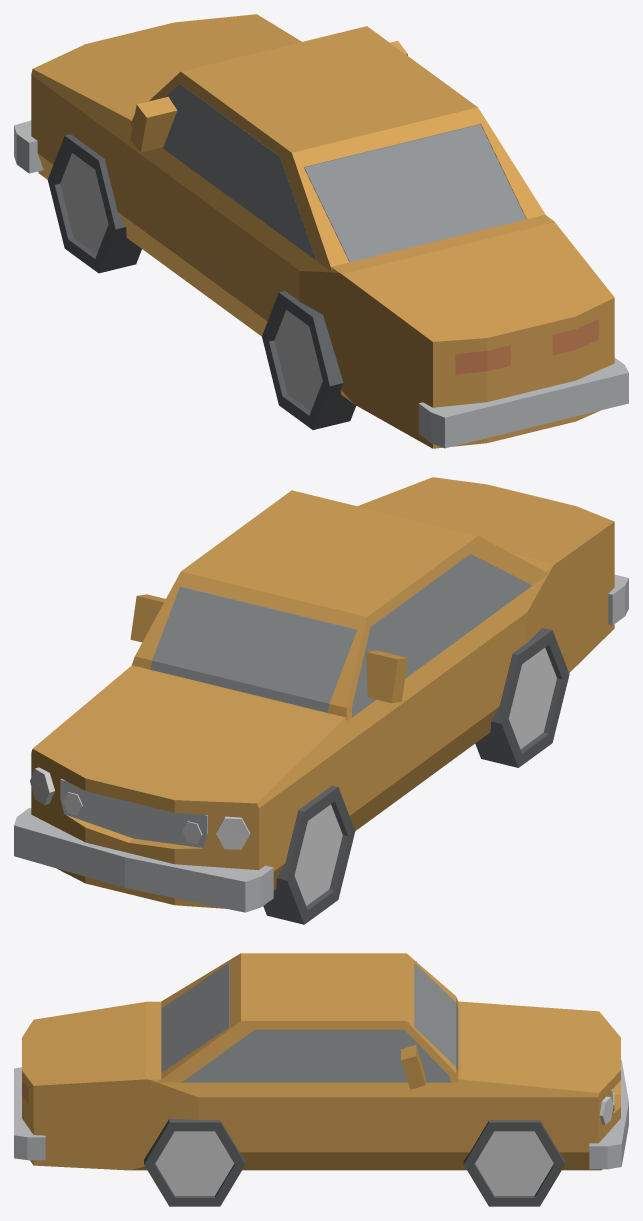
Rendered from car2.glb.
The picture shows the model from 3 angles, top to bottom: view 1: azimuth 30°, elevation 25°; view 2: azimuth 150°, elevation 25°; view 3: azimuth 270°, elevation 25°; orthographic projection. The views are drawn at different scales.
Parts seen in each view (by area): view 1: Mesh_Mesh_head_geo.001_lambert2SG.001; view 2: Mesh_Mesh_head_geo.001_lambert2SG.001; view 3: Mesh_Mesh_head_geo.001_lambert2SG.001.
Boxes of the visible parts, left/top/right/bottom form: Mesh_Mesh_head_geo.001_lambert2SG.001: left=14, top=14, right=628, bottom=448; Mesh_Mesh_head_geo.001_lambert2SG.001: left=14, top=477, right=628, bottom=924; Mesh_Mesh_head_geo.001_lambert2SG.001: left=14, top=953, right=628, bottom=1206.
Bounding box in the file's own units: 3.47 × 3 × 9.49.
